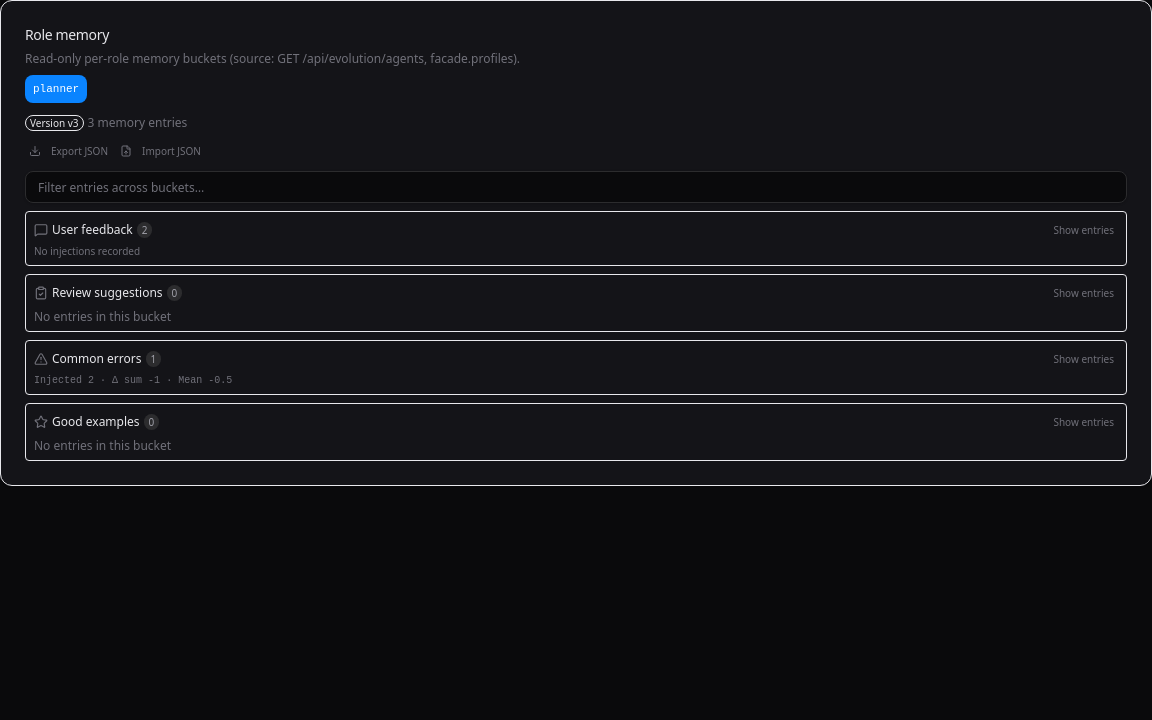
Test case: memory import/export render flow › falls back to the clipboard when anchor download is unavailable
The width and height of the screenshot is (1152, 720).
Step 1. Click the button with test id "memory-export" → (68, 151), box [25,139,112,163]
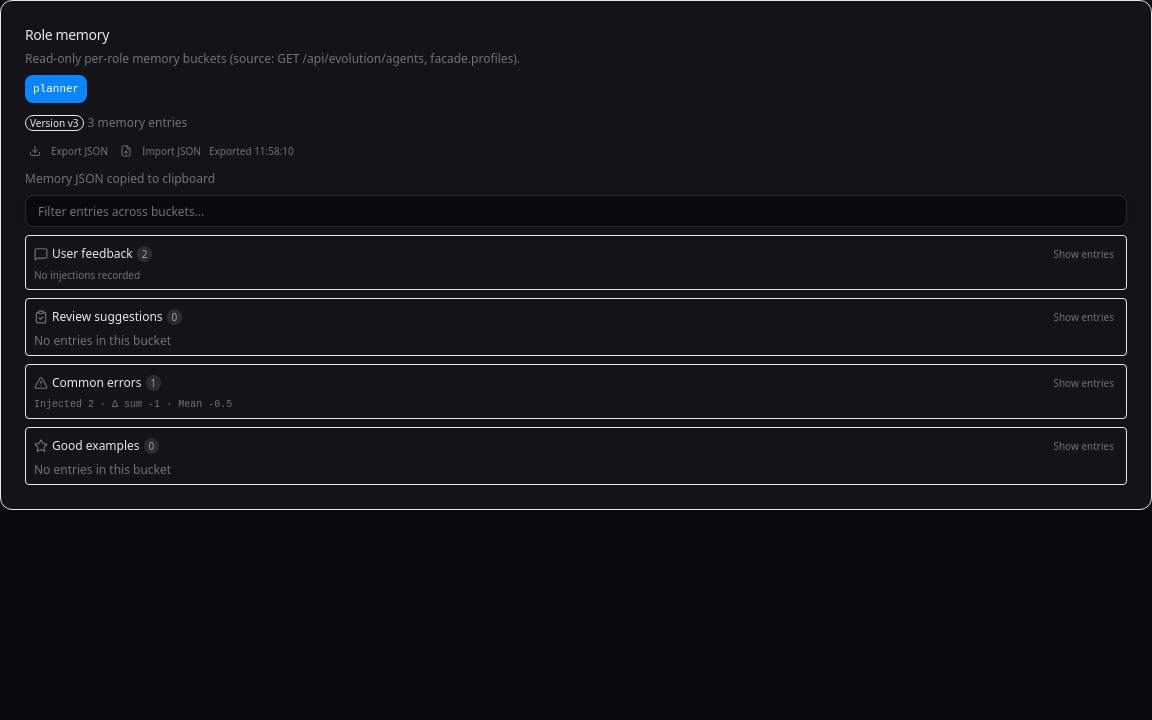
Result: the text with test id "memory-export-status" shows "clipboard" at [25,170,215,187]
